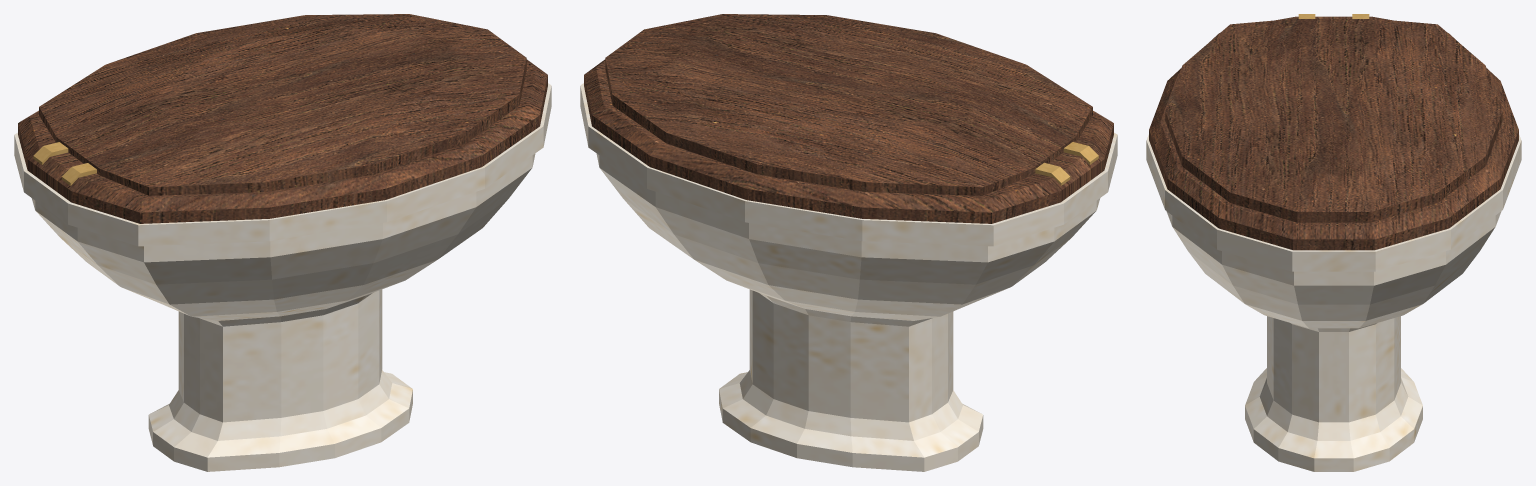
File: 장애물_닫힌대변기.fbx
3 views of the same model, side by side, from view 1: azimuth 30°, elevation 25°; view 2: azimuth 150°, elevation 25°; view 3: azimuth 270°, elevation 25° (orthographic). The views are drawn at different scales.
Visible parts, largest first — view 1: 닫힌대변기; view 2: 닫힌대변기; view 3: 닫힌대변기.
Boxes of the visible parts, bbox=[...] form: 닫힌대변기: bbox=[14, 14, 551, 471]; 닫힌대변기: bbox=[580, 14, 1117, 471]; 닫힌대변기: bbox=[1146, 14, 1521, 471].
Size of the model in its own units: 59.73 by 39.93 by 42.53.
